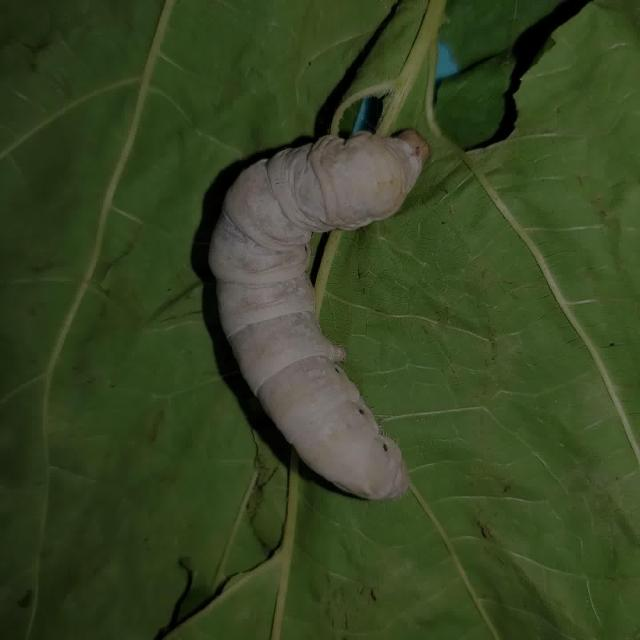Grasserie: (198, 106, 446, 514)
